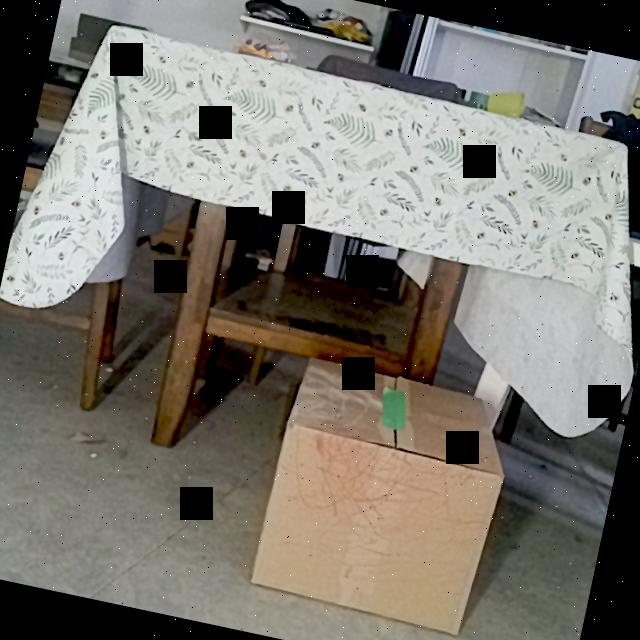box: (249, 423, 500, 634)
